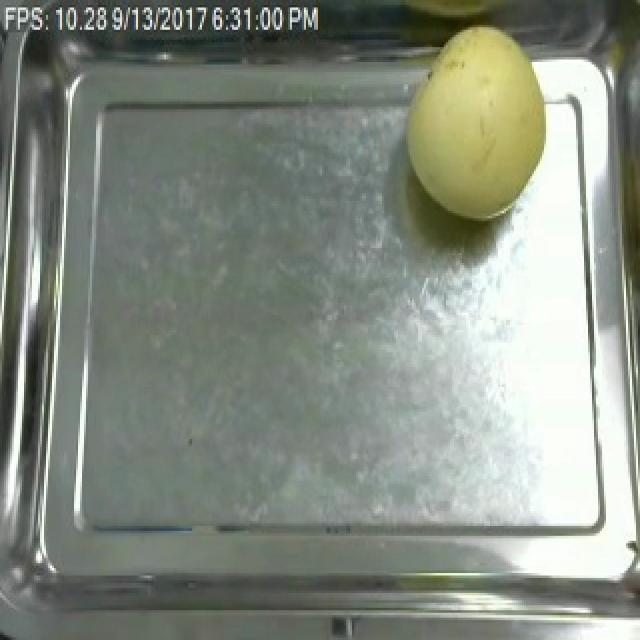Fruit: (394, 15, 558, 228)
